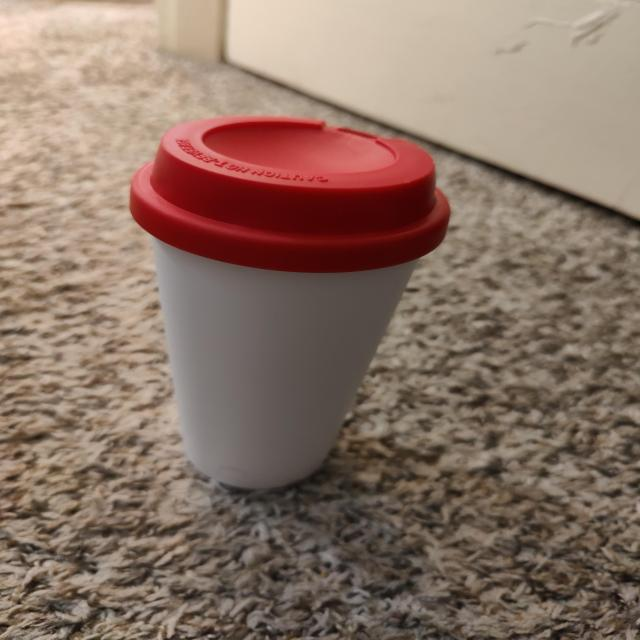mug: (122, 114, 448, 493)
